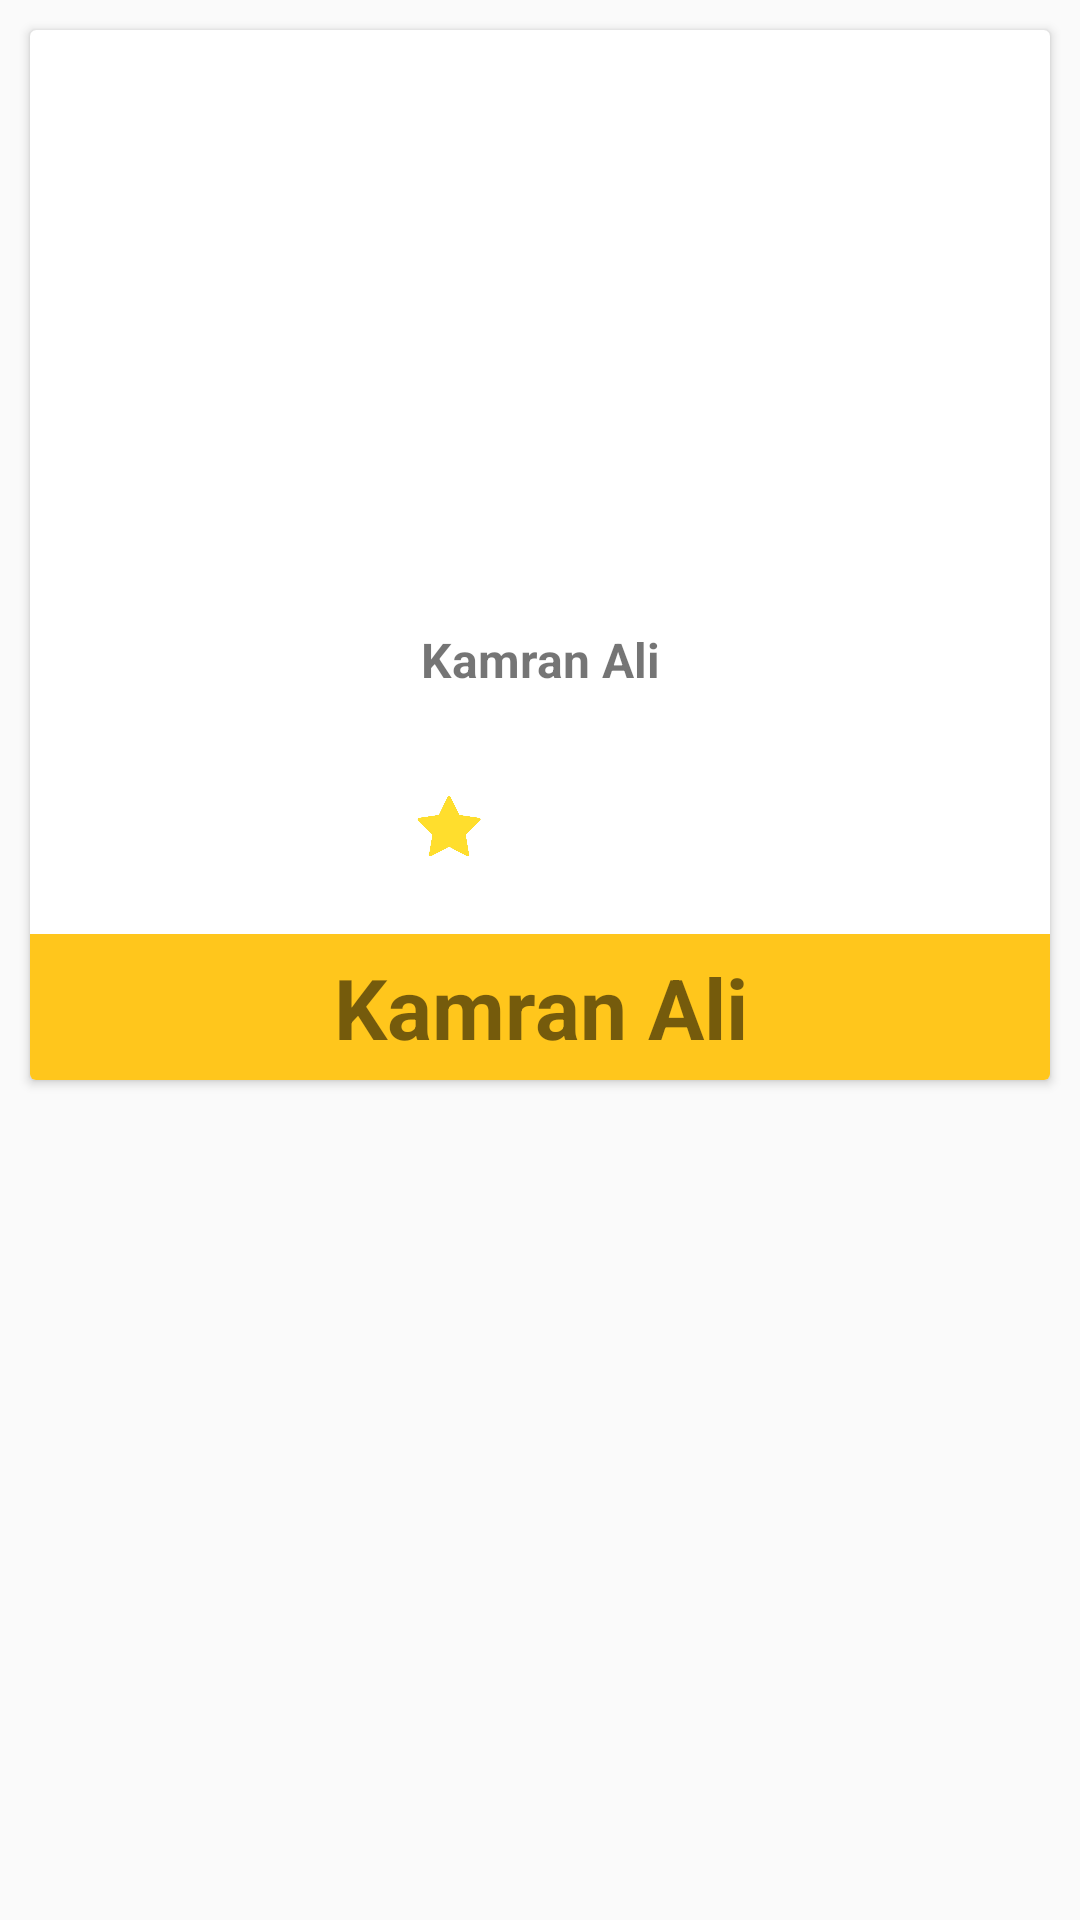

Locate icon controls on the screen. Image size 1080 x 1920, boxes as (x1, y1, x2, y2).
rating: (417, 796, 481, 856)
